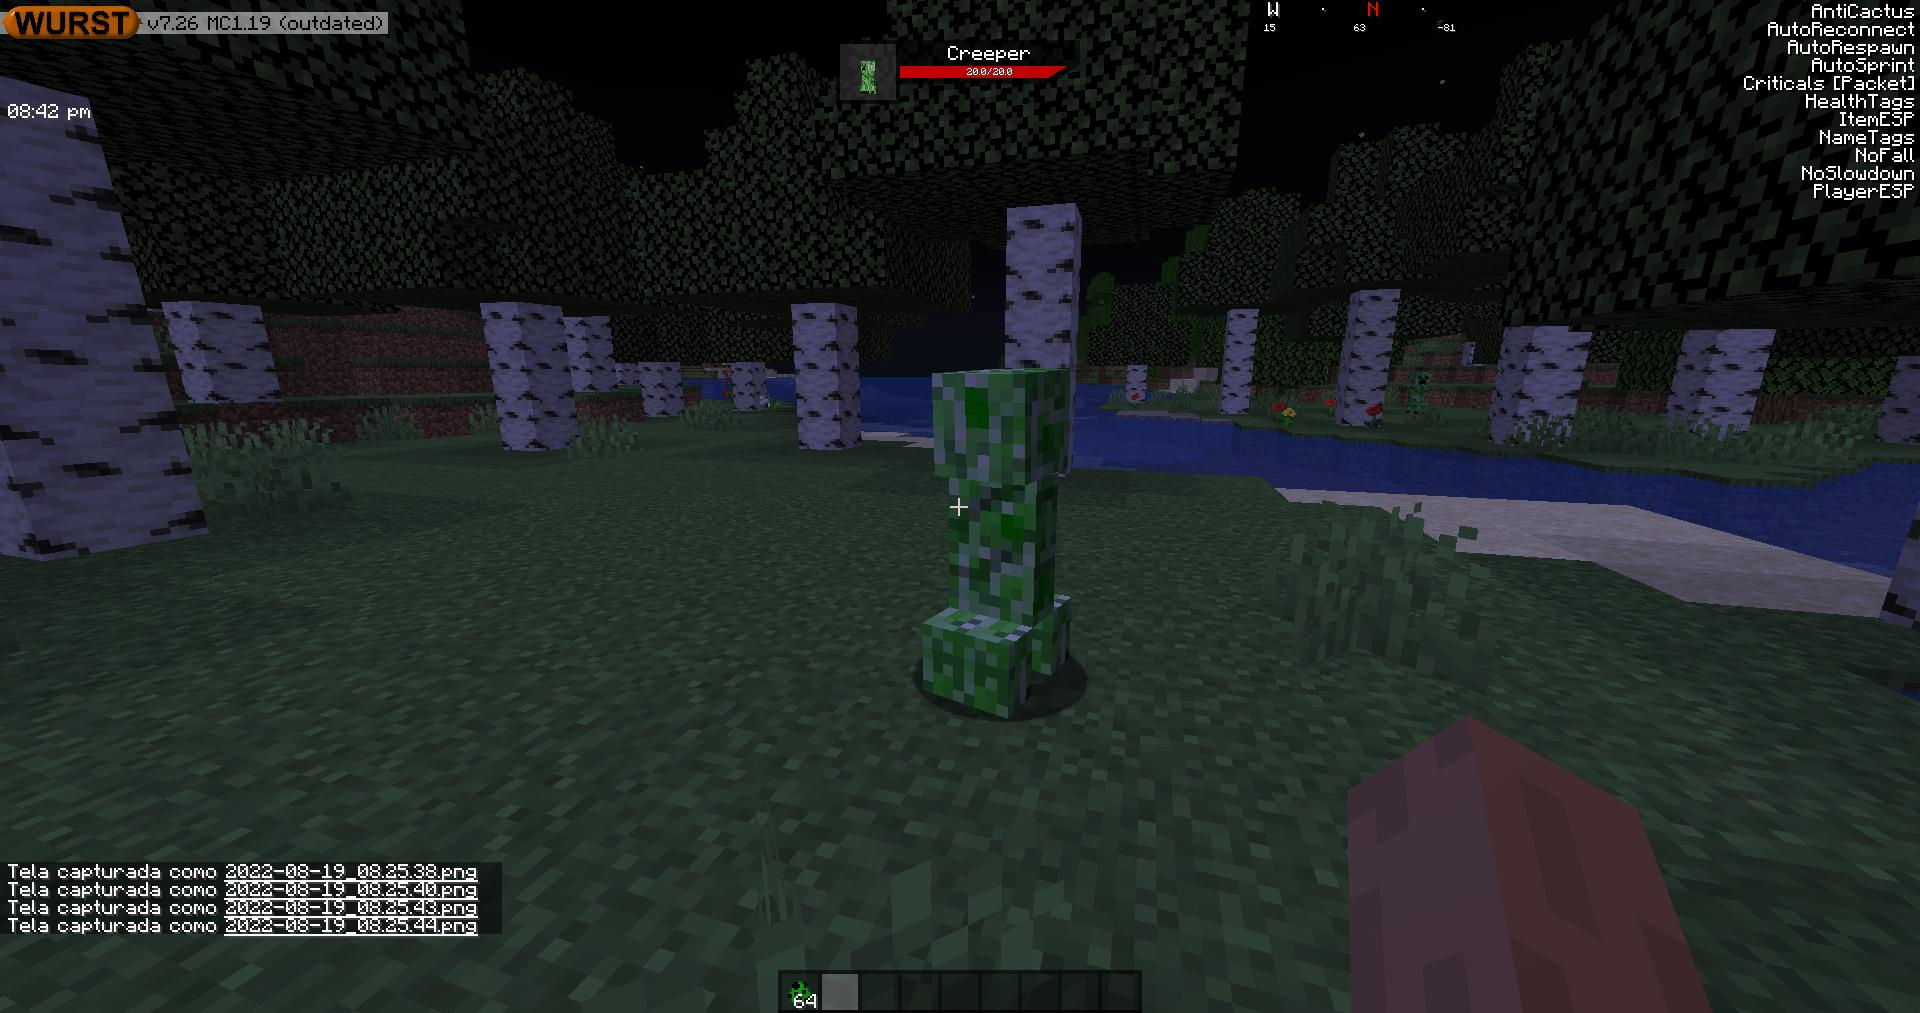creeper: (926, 364, 1067, 712)
